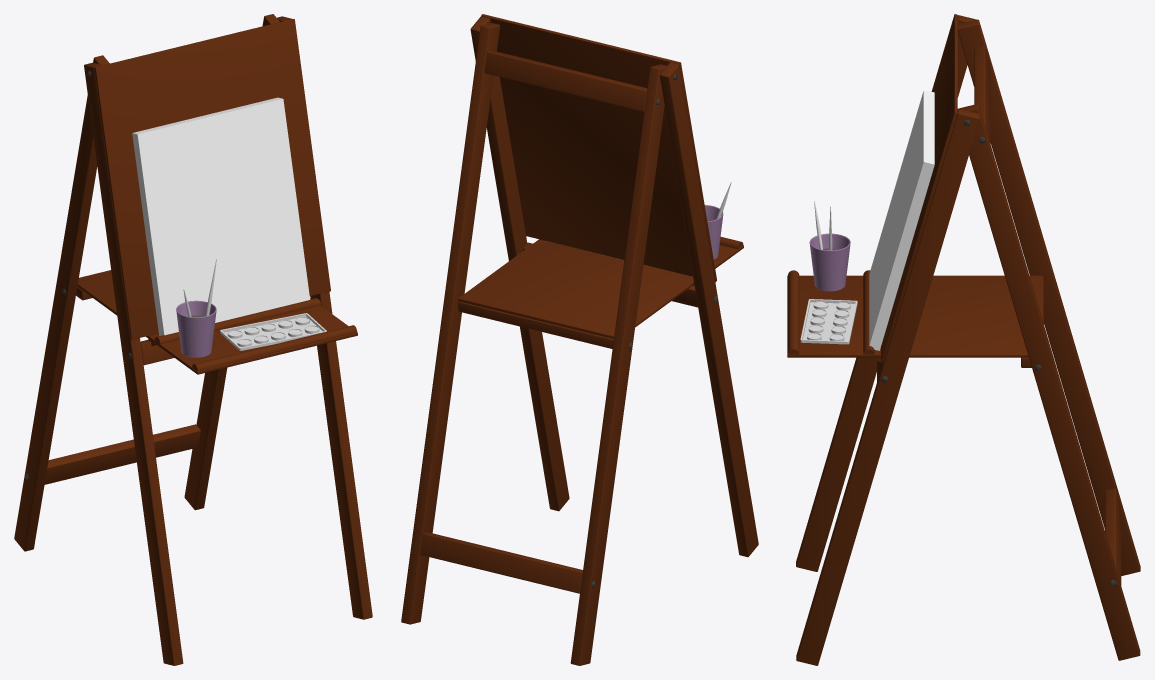
File: molbert.FBX
3 views of the same model, side by side, from view 1: azimuth 30°, elevation 25°; view 2: azimuth 150°, elevation 25°; view 3: azimuth 270°, elevation 25° (orthographic).
Visible parts, largest first — view 1: Box17, ChamferBox61, ChamferBox01, ChamferBox66, ChamferBox60, ChamferBox69, ChamferBox67, ChamferBox64, Line113923, Line15, Rectangle001, Line113920 (+1 smaller); view 2: ChamferBox61, ChamferBox69, ChamferBox66, ChamferBox64, ChamferBox01, ChamferBox60, ChamferBox67, ChamferBox63, ChamferBox68, Line113923; view 3: ChamferBox60, ChamferBox64, ChamferBox66, ChamferBox69, Box17, ChamferBox01, ChamferBox61, Line113923, Rectangle001, ChamferBox63, ChamferBox67, Line15 (+2 smaller).
Part boxes in pixels (x1,y1,x2,y2): Box17: (132, 97, 310, 335); ChamferBox61: (94, 19, 330, 339); ChamferBox01: (84, 62, 183, 665); ChamferBox66: (14, 55, 109, 551); ChamferBox60: (277, 16, 372, 619); ChamferBox69: (77, 270, 357, 374); ChamferBox67: (44, 424, 200, 484); ChamferBox64: (184, 14, 279, 510); Line113923: (176, 300, 216, 357); Line15: (192, 325, 357, 371); Rectangle001: (220, 313, 326, 350); Line113920: (154, 298, 320, 344); ChamferBox61: (481, 14, 716, 282); ChamferBox69: (458, 239, 743, 338); ChamferBox66: (570, 64, 666, 665); ChamferBox64: (401, 23, 500, 624); ChamferBox01: (659, 62, 758, 557); ChamferBox60: (470, 16, 569, 511); ChamferBox67: (420, 532, 582, 593); ChamferBox63: (484, 50, 647, 111); ChamferBox68: (458, 301, 613, 348); Line113923: (704, 205, 723, 259); ChamferBox60: (796, 109, 979, 665); ChamferBox64: (957, 104, 1140, 660); ChamferBox66: (957, 19, 1140, 575); ChamferBox69: (787, 275, 1043, 357); Box17: (869, 90, 934, 350); ChamferBox01: (796, 15, 976, 571); ChamferBox61: (881, 14, 957, 361); Line113923: (809, 233, 850, 291); Rectangle001: (800, 299, 857, 344); ChamferBox63: (974, 46, 990, 143); ChamferBox67: (1105, 488, 1121, 585); Line15: (788, 270, 799, 354).
Size of the model in its own units: 16.38 by 42.27 by 24.43.
